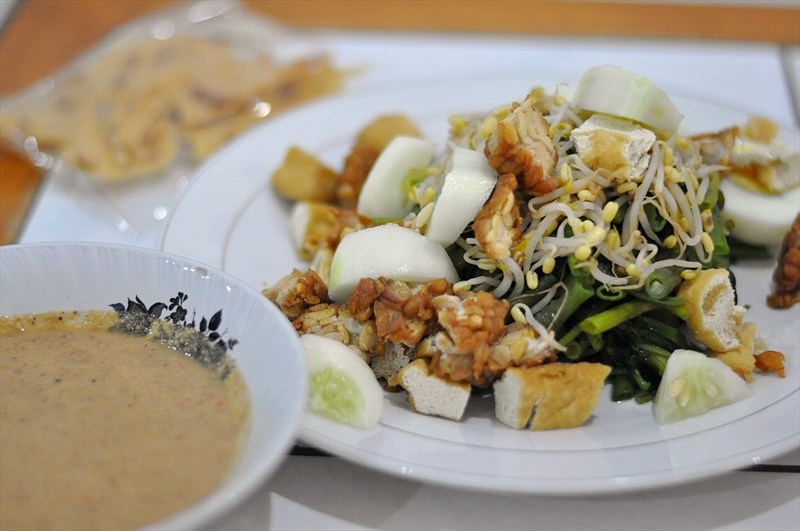Gado-Gado: (187, 127, 748, 412)
